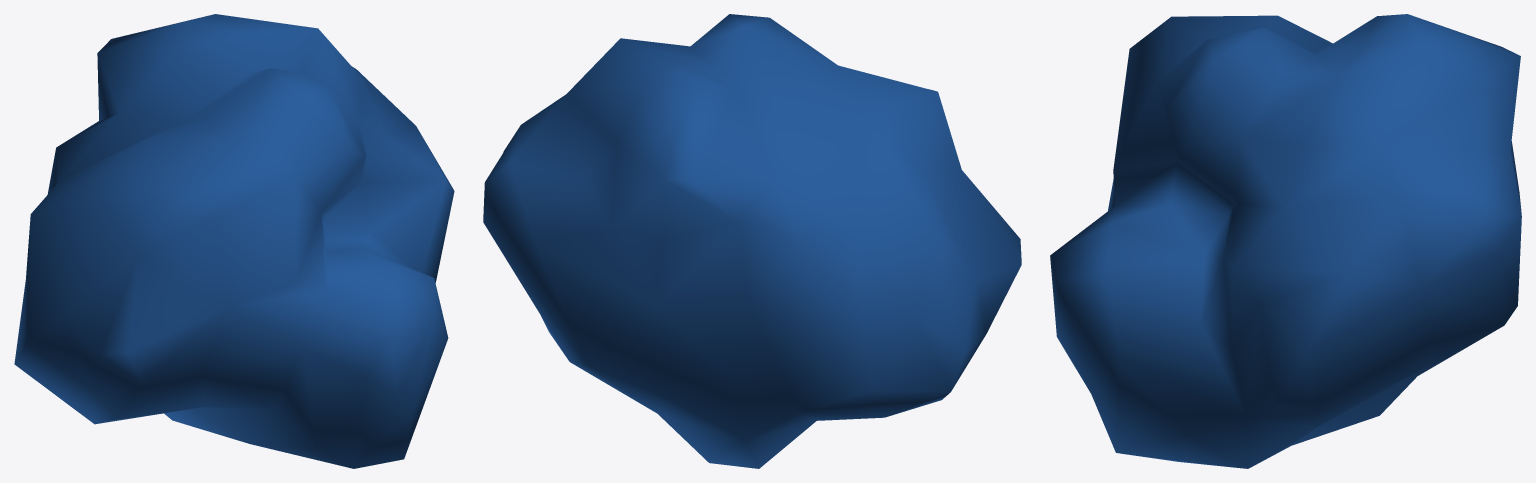
File: Mgenitalium_cmk_2feo_0_1_0.dae
3 renders of one model, left to right at view 1: azimuth 30°, elevation 25°; view 2: azimuth 150°, elevation 25°; view 3: azimuth 270°, elevation 25°, orthographic. The views are drawn at different scales.
Visible parts, largest first — view 1: CoarseMS_2feo; view 2: CoarseMS_2feo; view 3: CoarseMS_2feo.
Part boxes in pixels (x1,y1,x2,y2): CoarseMS_2feo: [14, 14, 454, 468]; CoarseMS_2feo: [483, 14, 1021, 468]; CoarseMS_2feo: [1050, 14, 1521, 468].
Bounding box in the file's own units: 53.23 × 46.28 × 47.48.
